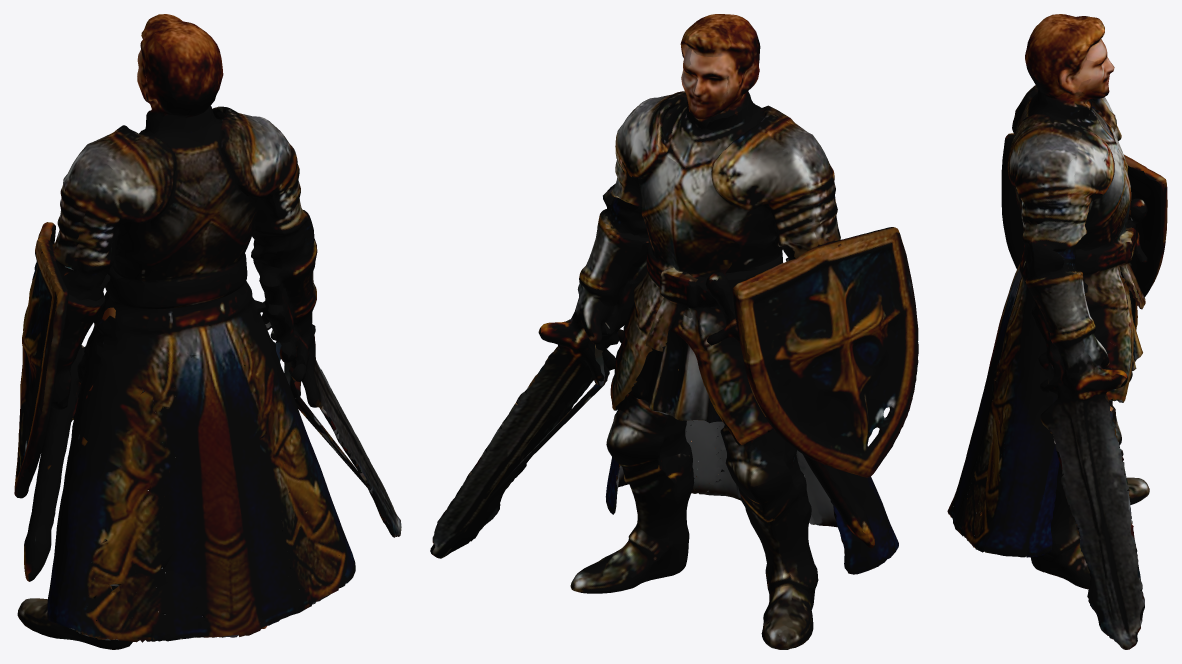
File: paladin.glb
3 renders of one model, left to right at view 1: azimuth 30°, elevation 25°; view 2: azimuth 150°, elevation 25°; view 3: azimuth 270°, elevation 25°, orthographic. The views are drawn at different scales.
Parts seen in each view (by area): view 1: tmp6u4iou5l.ply; view 2: tmp6u4iou5l.ply; view 3: tmp6u4iou5l.ply.
Boxes of the visible parts, left/top/right/bottom form: tmp6u4iou5l.ply: left=14, top=14, right=401, bottom=649; tmp6u4iou5l.ply: left=430, top=14, right=918, bottom=649; tmp6u4iou5l.ply: left=947, top=14, right=1167, bottom=649.
Size of the model in its own units: 1.5 by 1.96 by 0.7501.
Materials: 1 (1 with a texture image).
